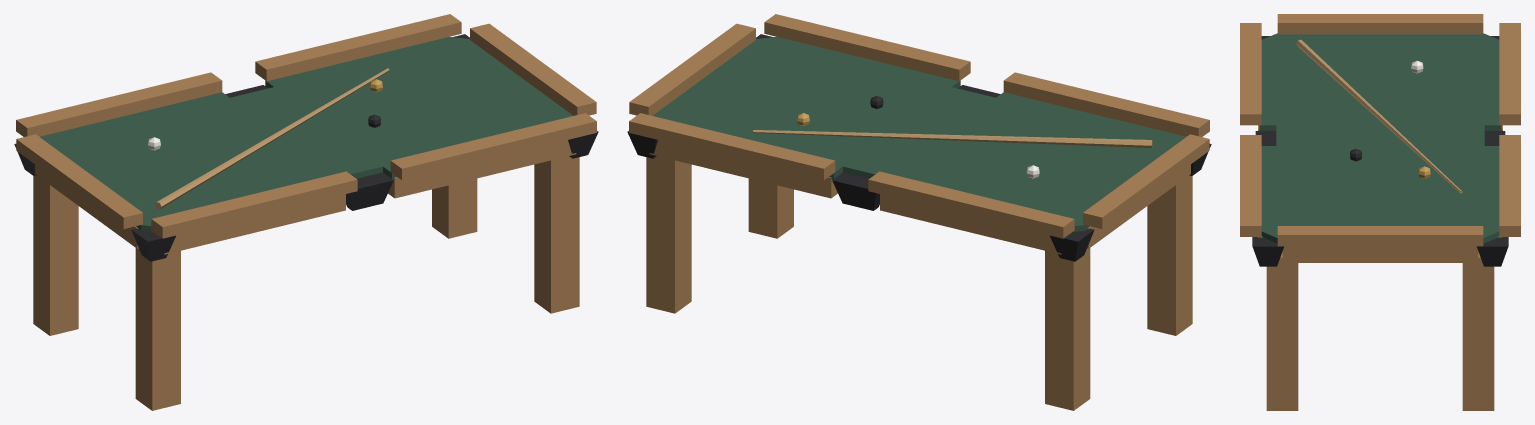
The model's file is FN_Table_Pool.obj.
3 views of the same model, side by side, from view 1: azimuth 30°, elevation 25°; view 2: azimuth 150°, elevation 25°; view 3: azimuth 270°, elevation 25° (orthographic). The views are drawn at different scales.
Parts seen in each view (by area): view 1: FN_Table_Pool; view 2: FN_Table_Pool; view 3: FN_Table_Pool.
Part boxes in pixels (left/top/right/bottom): FN_Table_Pool: left=14, top=14, right=598, bottom=410; FN_Table_Pool: left=627, top=14, right=1211, bottom=410; FN_Table_Pool: left=1240, top=14, right=1520, bottom=410.
Bounding box in the file's own units: 2.14 × 0.848 × 1.15.
1 material, 1 textured.
